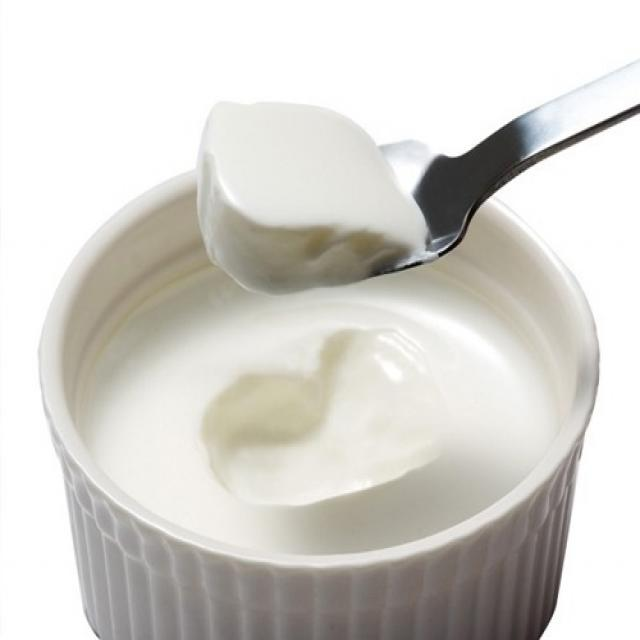yogurt: (42, 133, 585, 640)
